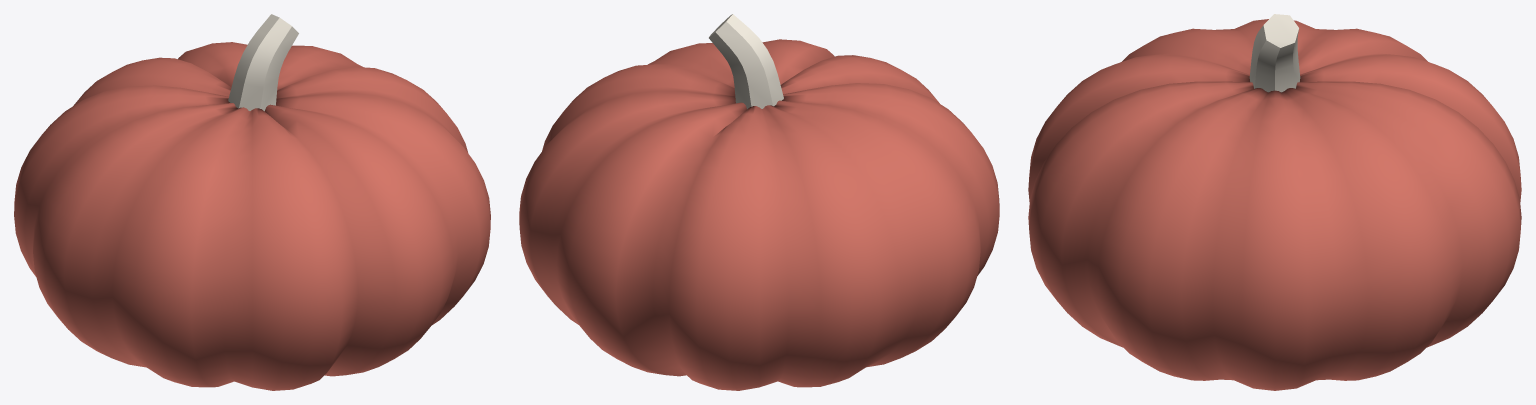
The model's file is food_pumpkin.glb.
3 renders of one model, left to right at view 1: azimuth 30°, elevation 25°; view 2: azimuth 150°, elevation 25°; view 3: azimuth 270°, elevation 25°, orthographic. The views are drawn at different scales.
Visible parts, largest first — view 1: PART; view 2: PART; view 3: PART.
Part boxes in pixels (x1=…): PART: x1=14, y1=14, x2=490, y2=390; PART: x1=519, y1=14, x2=999, y2=390; PART: x1=1028, y1=14, x2=1521, y2=390.
Size of the model in its own units: 0.164 by 0.1216 by 0.1587.
